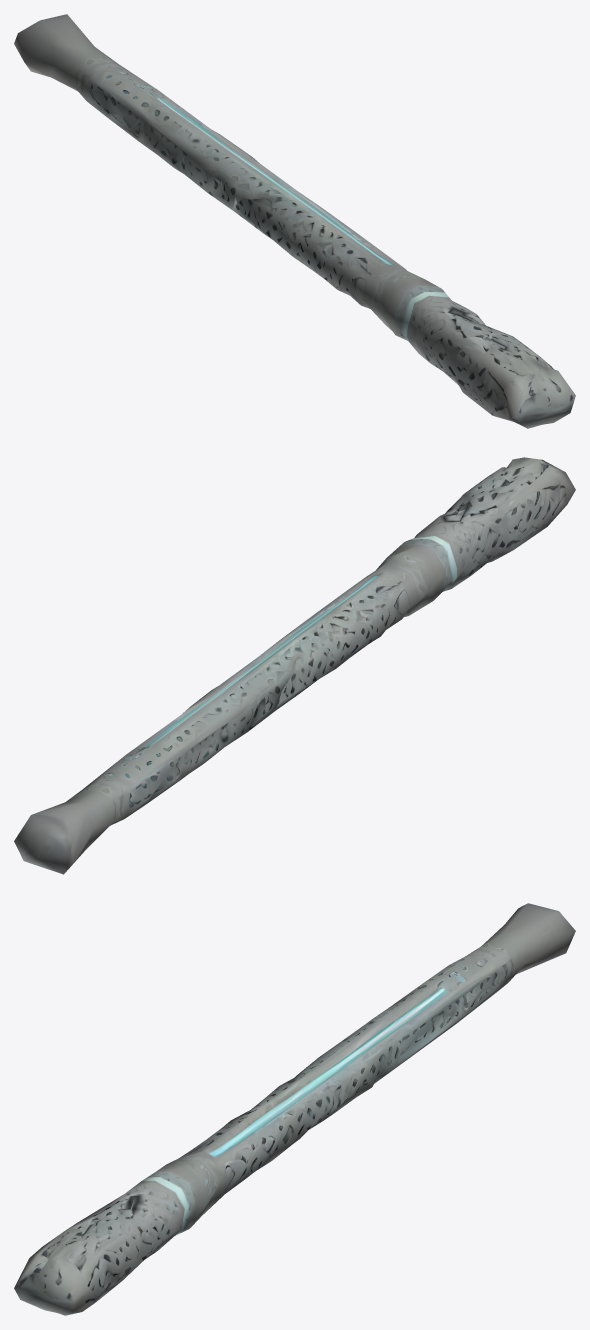
Rendered from ornate+staff+3d+model.fbx.
The picture shows the model from 3 angles, top to bottom: view 1: azimuth 30°, elevation 25°; view 2: azimuth 150°, elevation 25°; view 3: azimuth 330°, elevation 25°; orthographic projection.
Visible parts, largest first — view 1: meshes[0]; view 2: meshes[0]; view 3: meshes[0].
Part boxes in pixels (<box>): meshes[0]: <box>14,14,575,428</box>; meshes[0]: <box>14,457,575,874</box>; meshes[0]: <box>14,903,575,1315</box>.
Size of the model in its own units: 0.0704 by 0.0668 by 1.
1 material, 1 textured.
